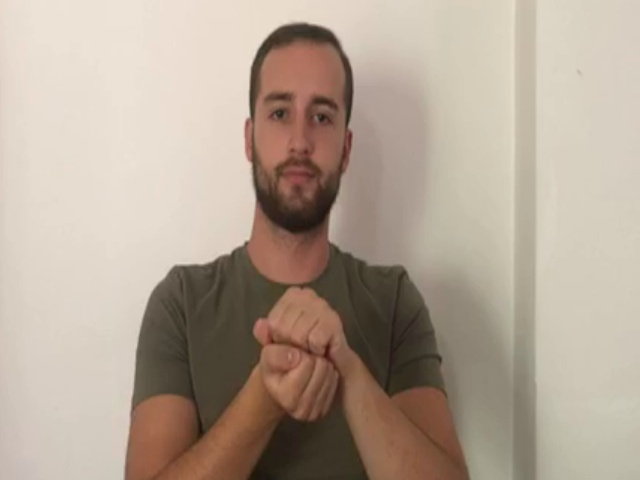Istorija: (242, 282, 364, 426)
